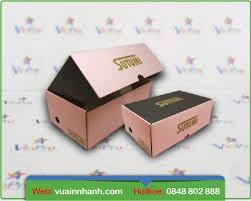box: (45, 43, 165, 151), (122, 90, 214, 159)
